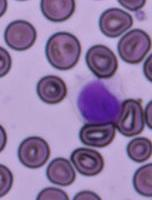L: (72, 75, 125, 125)
